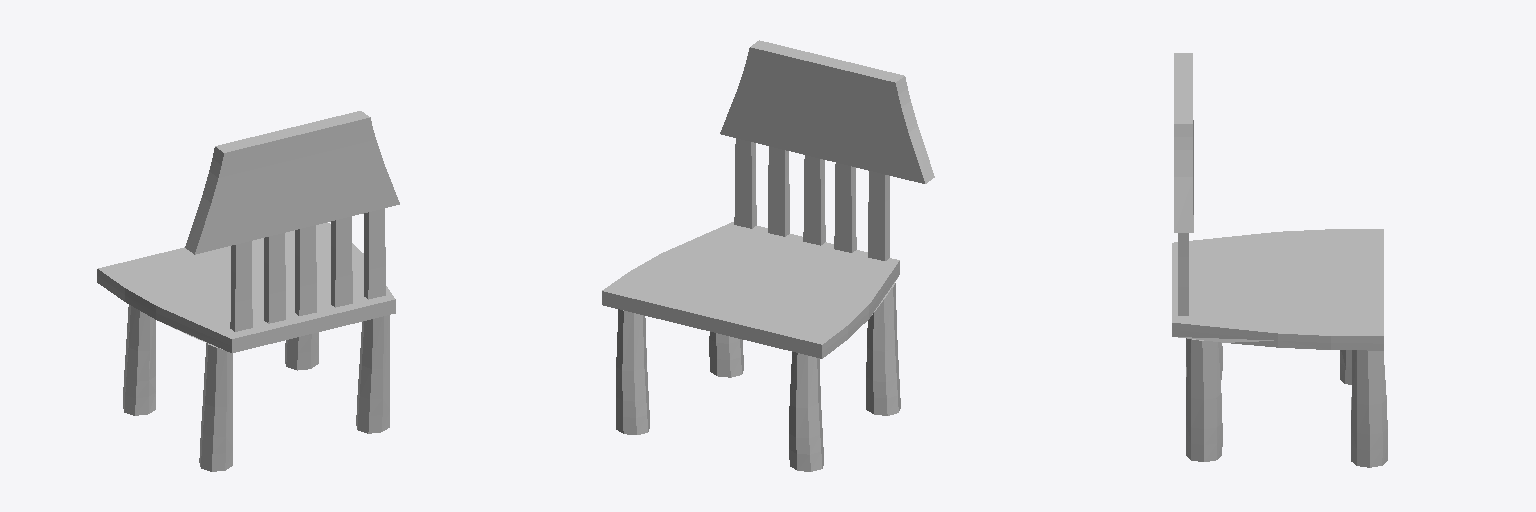
File: chair uv texture.obj
The picture shows the model from 3 angles: view 1: azimuth 30°, elevation 25°; view 2: azimuth 150°, elevation 25°; view 3: azimuth 270°, elevation 25°; orthographic projection.
Visible parts, largest first — view 1: pCube7, pCube1, pCylinder2, pCylinder1, pCylinder3, pCube5, pCube4, pCube2, pCube3, pCube6, pCylinder4; view 2: pCube1, pCube7, pCylinder4, pCylinder3, pCylinder2, pCube6, pCube3, pCube5, pCube2, pCube4, pCylinder1; view 3: pCube1, pCylinder1, pCylinder4, pCube7, pCube2.
Part boxes in pixels (x1,y1,x2,y2): pCube7: (185, 111, 399, 254); pCube1: (97, 222, 395, 352); pCylinder2: (199, 343, 232, 471); pCylinder1: (356, 315, 389, 433); pCylinder3: (123, 305, 155, 415); pCube5: (264, 233, 285, 323); pCube4: (295, 225, 316, 315); pCube2: (364, 208, 385, 299); pCube3: (331, 216, 352, 307); pCube6: (230, 241, 252, 331); pCylinder4: (285, 332, 318, 370); pCube1: (602, 222, 899, 358); pCube7: (720, 40, 934, 183); pCylinder4: (616, 309, 649, 434); pCylinder3: (789, 352, 823, 471); pCylinder2: (866, 283, 900, 415); pCube6: (868, 171, 889, 260); pCube3: (768, 146, 789, 236); pCube5: (834, 163, 856, 252); pCube2: (734, 138, 756, 228); pCube4: (803, 155, 825, 245); pCylinder1: (709, 332, 743, 377); pCube1: (1172, 229, 1383, 350); pCylinder1: (1186, 339, 1222, 461); pCylinder4: (1351, 350, 1387, 467); pCube7: (1174, 53, 1193, 232); pCube2: (1178, 233, 1188, 315).
Size of the model in its own units: 4.8 by 6.51 by 3.93.